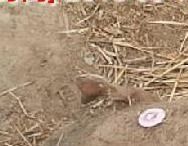text: (131, 102, 172, 134)
